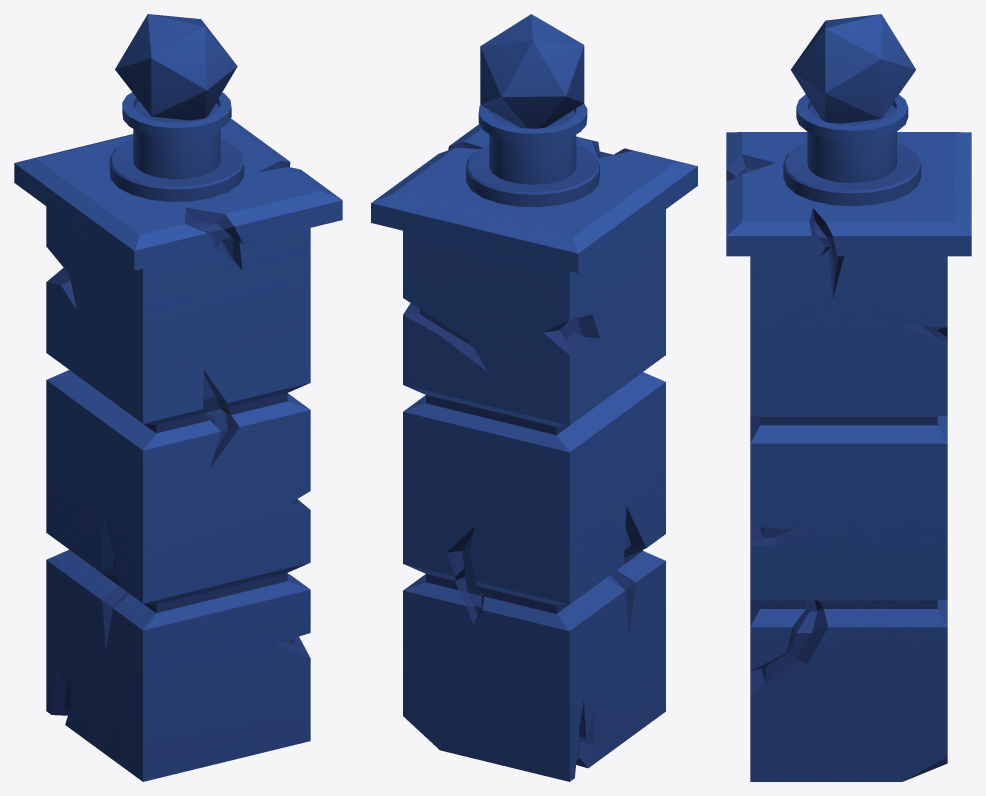
The model's file is SM_WallCorner_01.fbx.
3 renders of one model, left to right at view 1: azimuth 30°, elevation 25°; view 2: azimuth 150°, elevation 25°; view 3: azimuth 270°, elevation 25°, orthographic. The views are drawn at different scales.
Visible parts, largest first — view 1: polySurface111; view 2: polySurface111; view 3: polySurface111.
Part boxes in pixels (x1,y1,x2,y2): polySurface111: (14,14,342,781); polySurface111: (371,14,697,781); polySurface111: (726,14,971,781).
Bounding box in the file's own units: 59.84 × 193 × 59.84.
